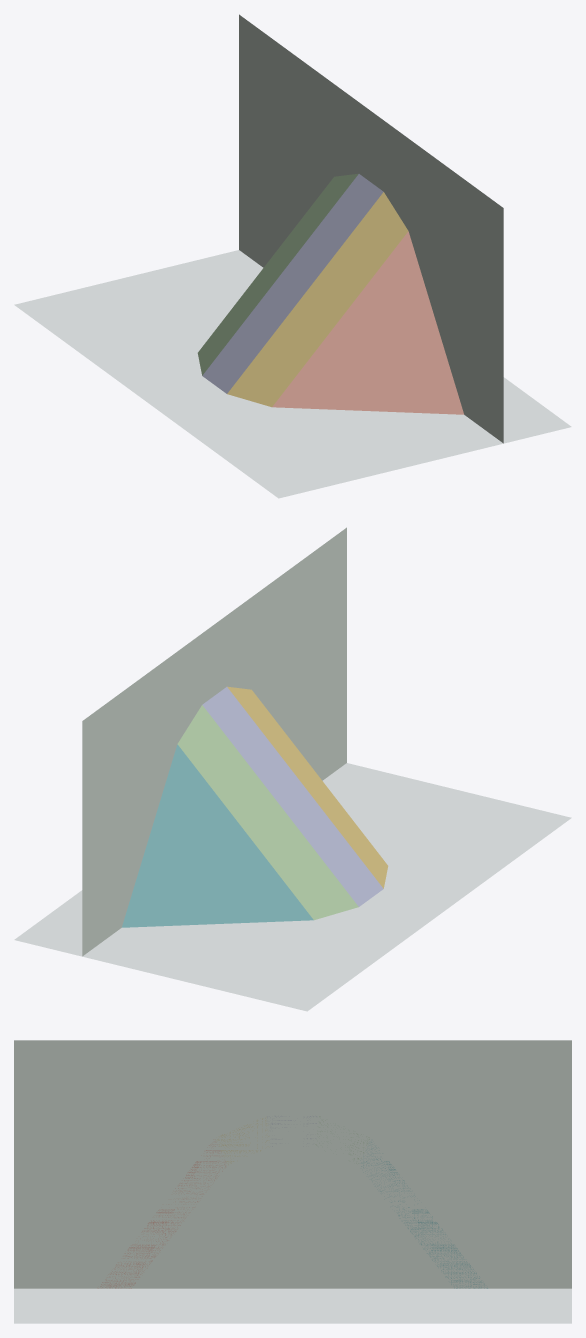
File: assembly.glb
The picture shows the model from 3 angles, top to bottom: view 1: azimuth 30°, elevation 25°; view 2: azimuth 150°, elevation 25°; view 3: azimuth 270°, elevation 25°; orthographic projection. The views are drawn at different scales.
Visible parts, largest first — view 1: mount_plane_2, mount_plane_1, triangle_A_1, triangle_C_1, triangle_D_1, triangle_E_1; view 2: mount_plane_2, mount_plane_1, triangle_B_1, triangle_E_1, triangle_D_1, triangle_C_1; view 3: mount_plane_2, mount_plane_1, triangle_B_1, triangle_A_1.
Boxes of the visible parts, <box> form: mount_plane_2: <box>239,14,503,443</box>; mount_plane_1: <box>14,250,571,498</box>; triangle_A_1: <box>272,231,463,414</box>; triangle_C_1: <box>227,192,408,407</box>; triangle_D_1: <box>202,174,383,393</box>; triangle_E_1: <box>197,173,358,375</box>; mount_plane_2: <box>82,527,346,956</box>; mount_plane_1: <box>14,763,571,1011</box>; triangle_B_1: <box>122,744,313,927</box>; triangle_E_1: <box>177,705,358,920</box>; triangle_D_1: <box>202,687,383,906</box>; triangle_C_1: <box>227,686,388,888</box>; mount_plane_2: <box>14,1040,571,1288</box>; mount_plane_1: <box>14,1288,571,1323</box>; triangle_B_1: <box>360,1142,487,1288</box>; triangle_A_1: <box>97,1139,225,1288</box>.
Bounding box in the file's own units: 0.2619 × 0.2009 × 0.4093.
